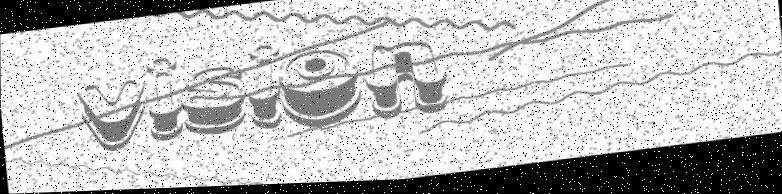i: (143, 57, 185, 143), (245, 46, 283, 131)
n: (363, 40, 450, 123)
o: (278, 49, 363, 133)
s: (179, 66, 247, 139)
v: (75, 79, 150, 154)
